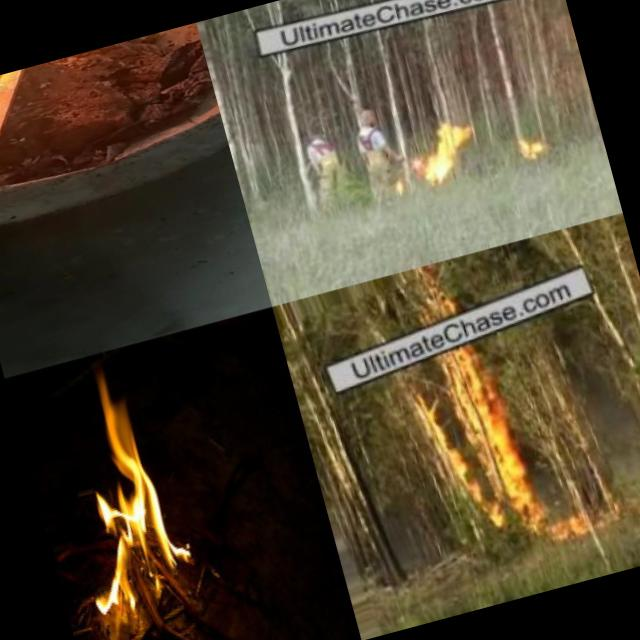fire: (36, 352, 202, 620), (406, 346, 547, 550), (409, 118, 481, 186), (510, 126, 548, 162)
